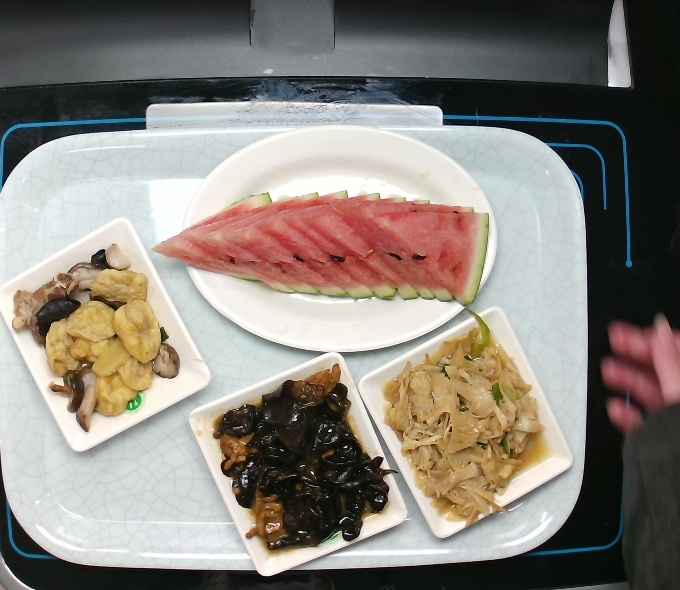wcq-LuSun: (379, 327, 552, 528)
wcq-MuErChaoRou: (217, 367, 386, 549)
wcq-XiGua: (151, 179, 499, 314)
wcq-YouPaoPaiGu: (10, 245, 187, 430)
